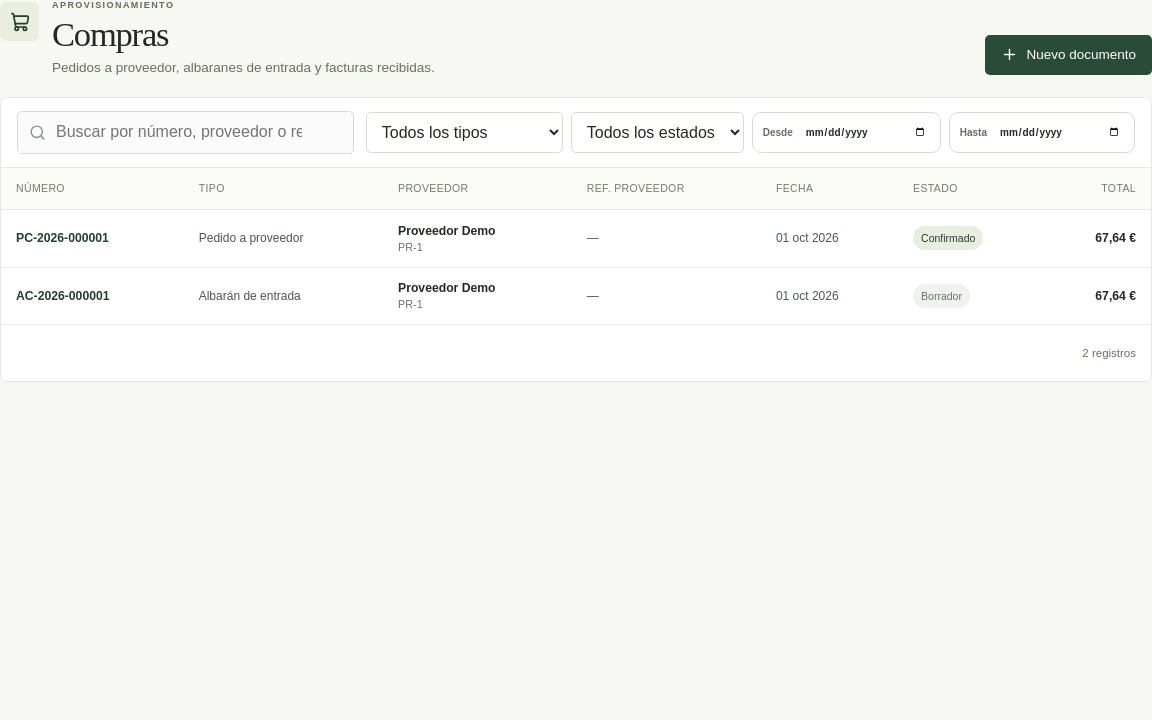
Test case: converts a confirmed order into a goods receipt
Step 1. Click the text "PC-2026-000001" → [62, 238], box [16, 231, 109, 245]
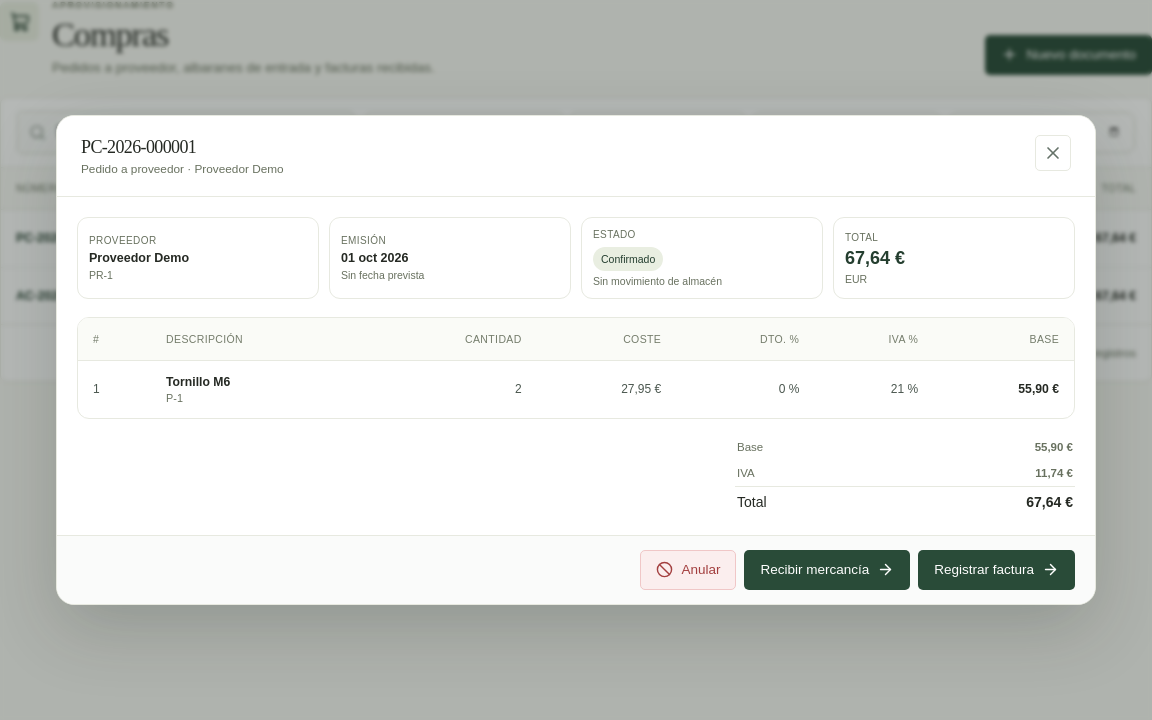
Step 2. Click the button "Recibir mercancía" → [827, 570], box [744, 550, 910, 590]
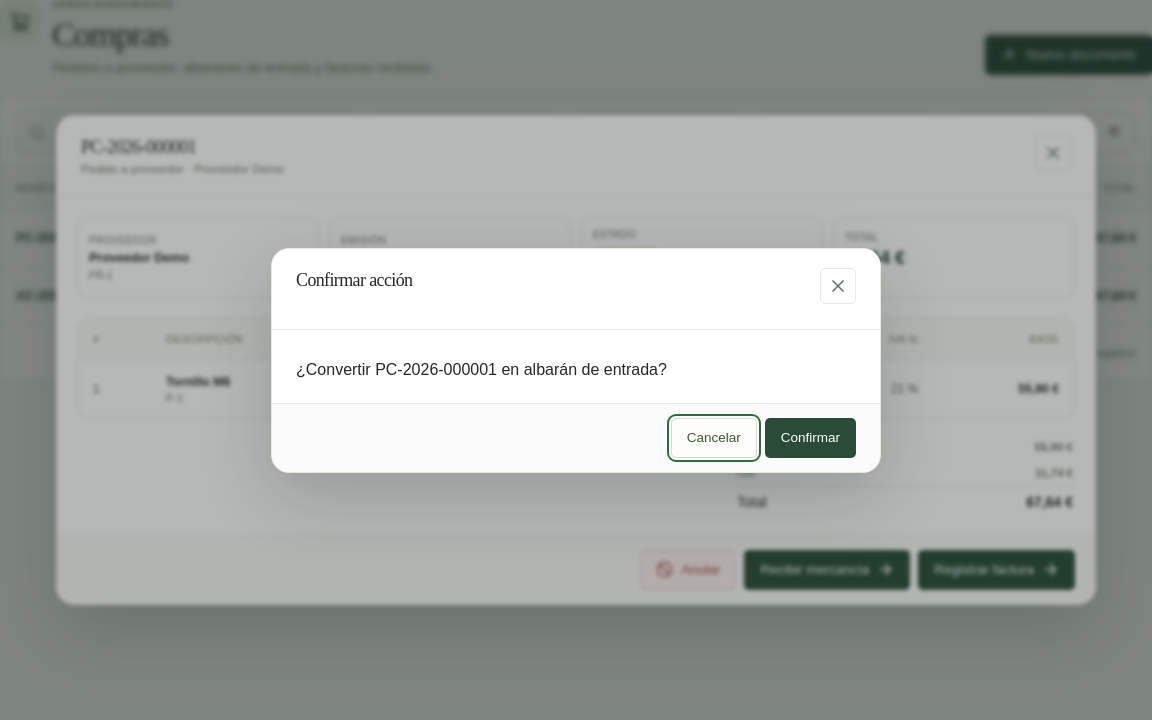
Step 3. Click the button "Confirmar" → [810, 438], box [765, 418, 856, 458]
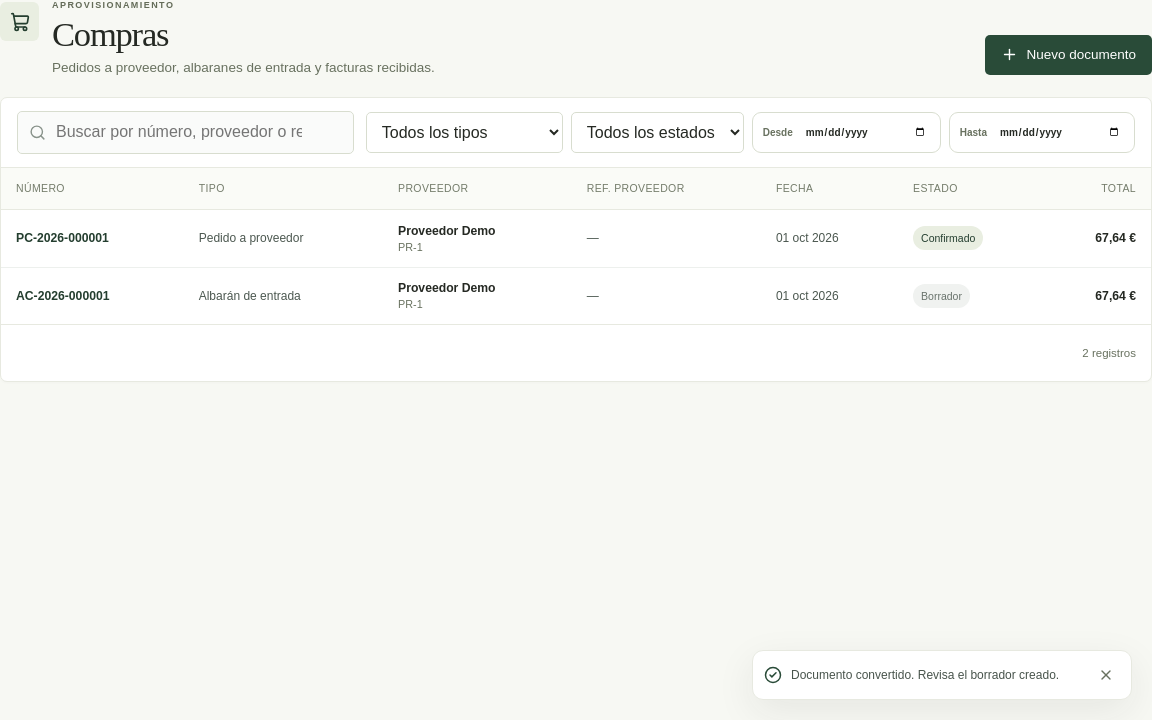
Check: the text "Documento convertido. Revisa el borrador creado." is shown, box [791, 668, 1083, 682]
